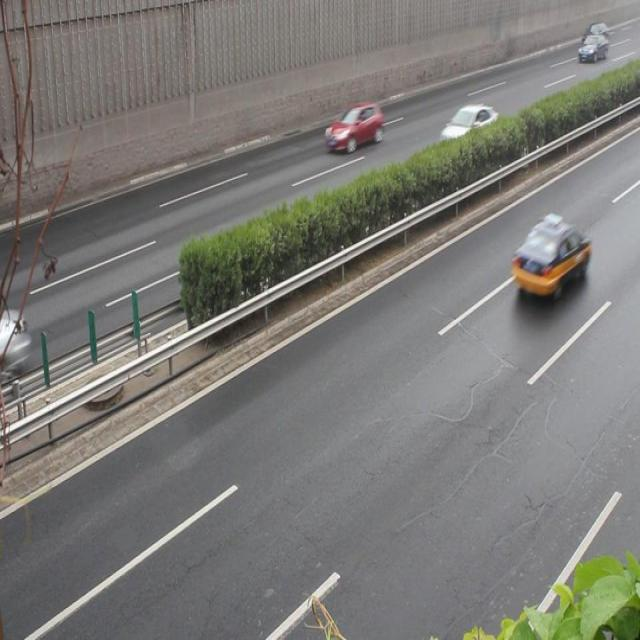car: (509, 215, 588, 302), (324, 102, 382, 155), (438, 106, 498, 157)
